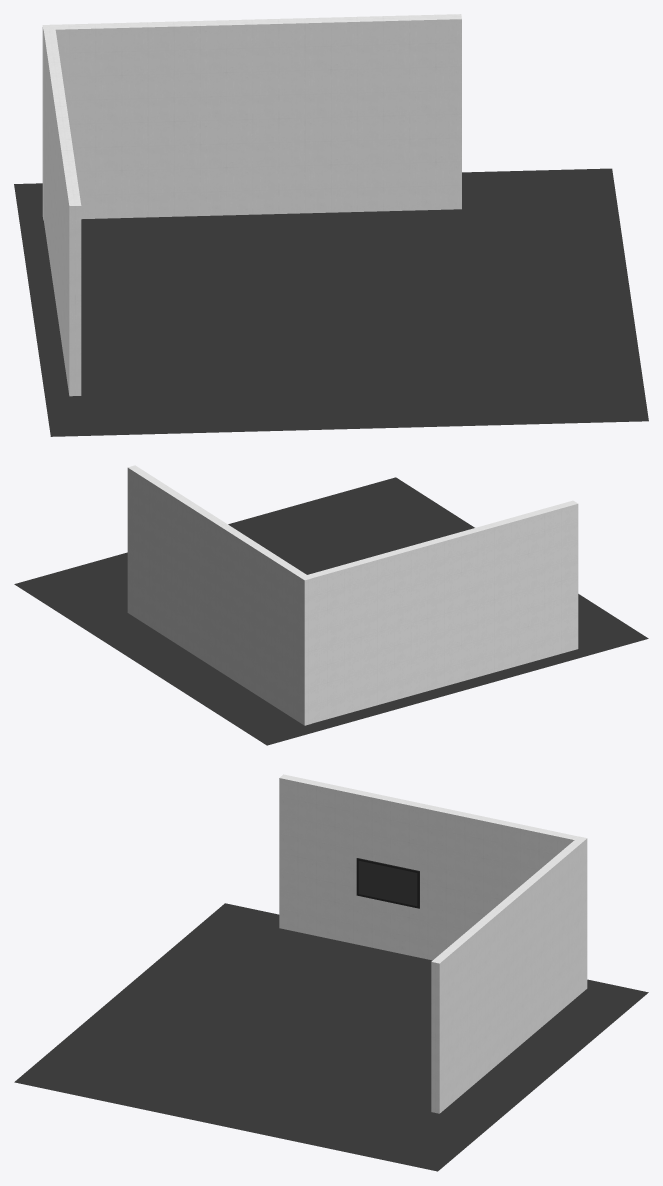
File: room_model.gltf
3 views of the same model, one above another, from view 1: azimuth 30°, elevation 25°; view 2: azimuth 150°, elevation 25°; view 3: azimuth 270°, elevation 25° (orthographic). The views are drawn at different scales.
Visible parts, largest first — view 1: Floor, Wall.001, Wall; view 2: Wall, Floor, Wall.001; view 3: Floor, Wall, Wall.001, DisplayScreen, DisplayFrame.
Part boxes in pixels (x1=…): Floor: x1=14, y1=168, x2=648, y2=436; Wall.001: x1=42, y1=14, x2=461, y2=219; Wall: x1=43, y1=29, x2=81, y2=396; Wall: x1=306, y1=500, x2=578, y2=723; Floor: x1=14, y1=477, x2=648, y2=745; Wall.001: x1=127, y1=465, x2=312, y2=725; Floor: x1=14, y1=903, x2=648, y2=1171; Wall: x1=279, y1=774, x2=579, y2=960; Wall.001: x1=431, y1=836, x2=587, y2=1113; DisplayScreen: x1=358, y1=861, x2=417, y2=906; DisplayFrame: x1=356, y1=858, x2=419, y2=908.
Bounding box in the file's own units: 13.41 × 3.5 × 13.41.
4 materials, 1 textured.
